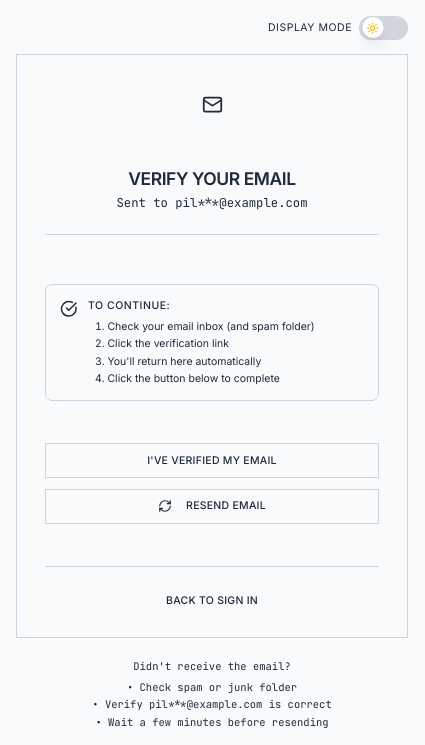
Scenario: EmailVerification › handles resend flow and resets countdown
Click the button with aria-label "resend verification email": coordinates (212, 506) [45,488,379,524]
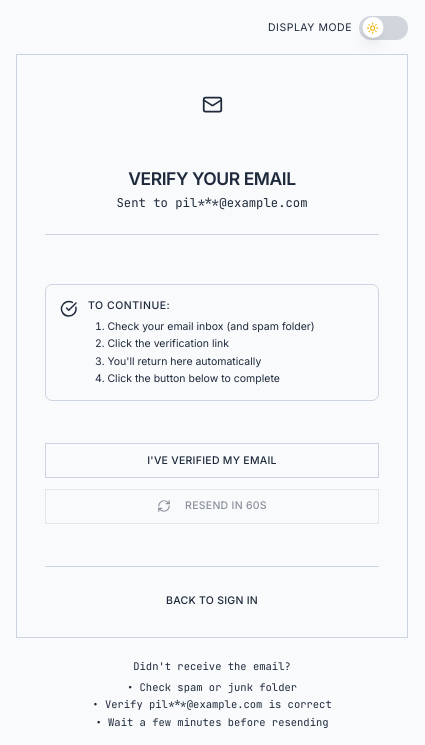
Result: the button with aria-label "resend available in 60 seconds" is disabled at [45,488,379,524]
